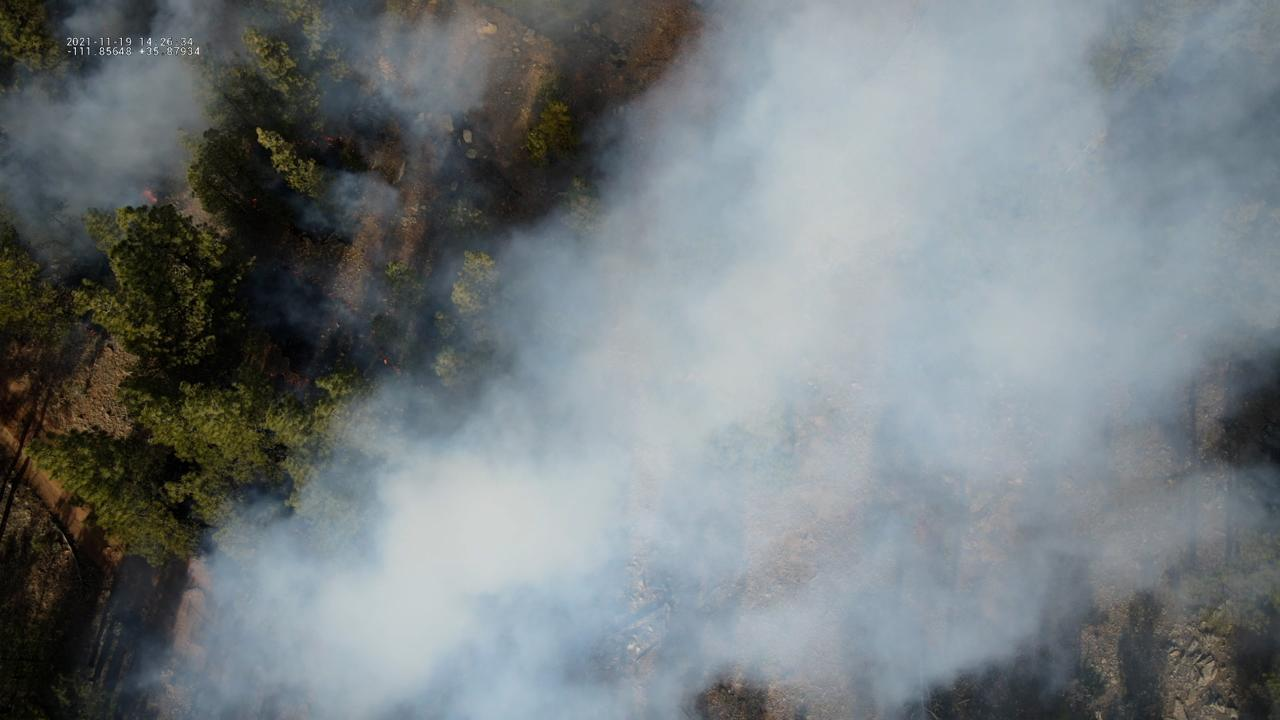fire: (141, 185, 159, 205), (318, 133, 338, 143), (249, 197, 260, 210), (383, 359, 389, 365)
smoke: (0, 0, 1280, 720)
